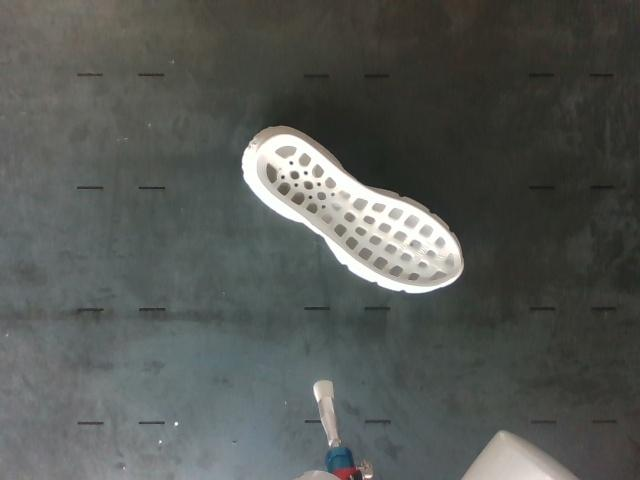shoes: (256, 135, 461, 287)
